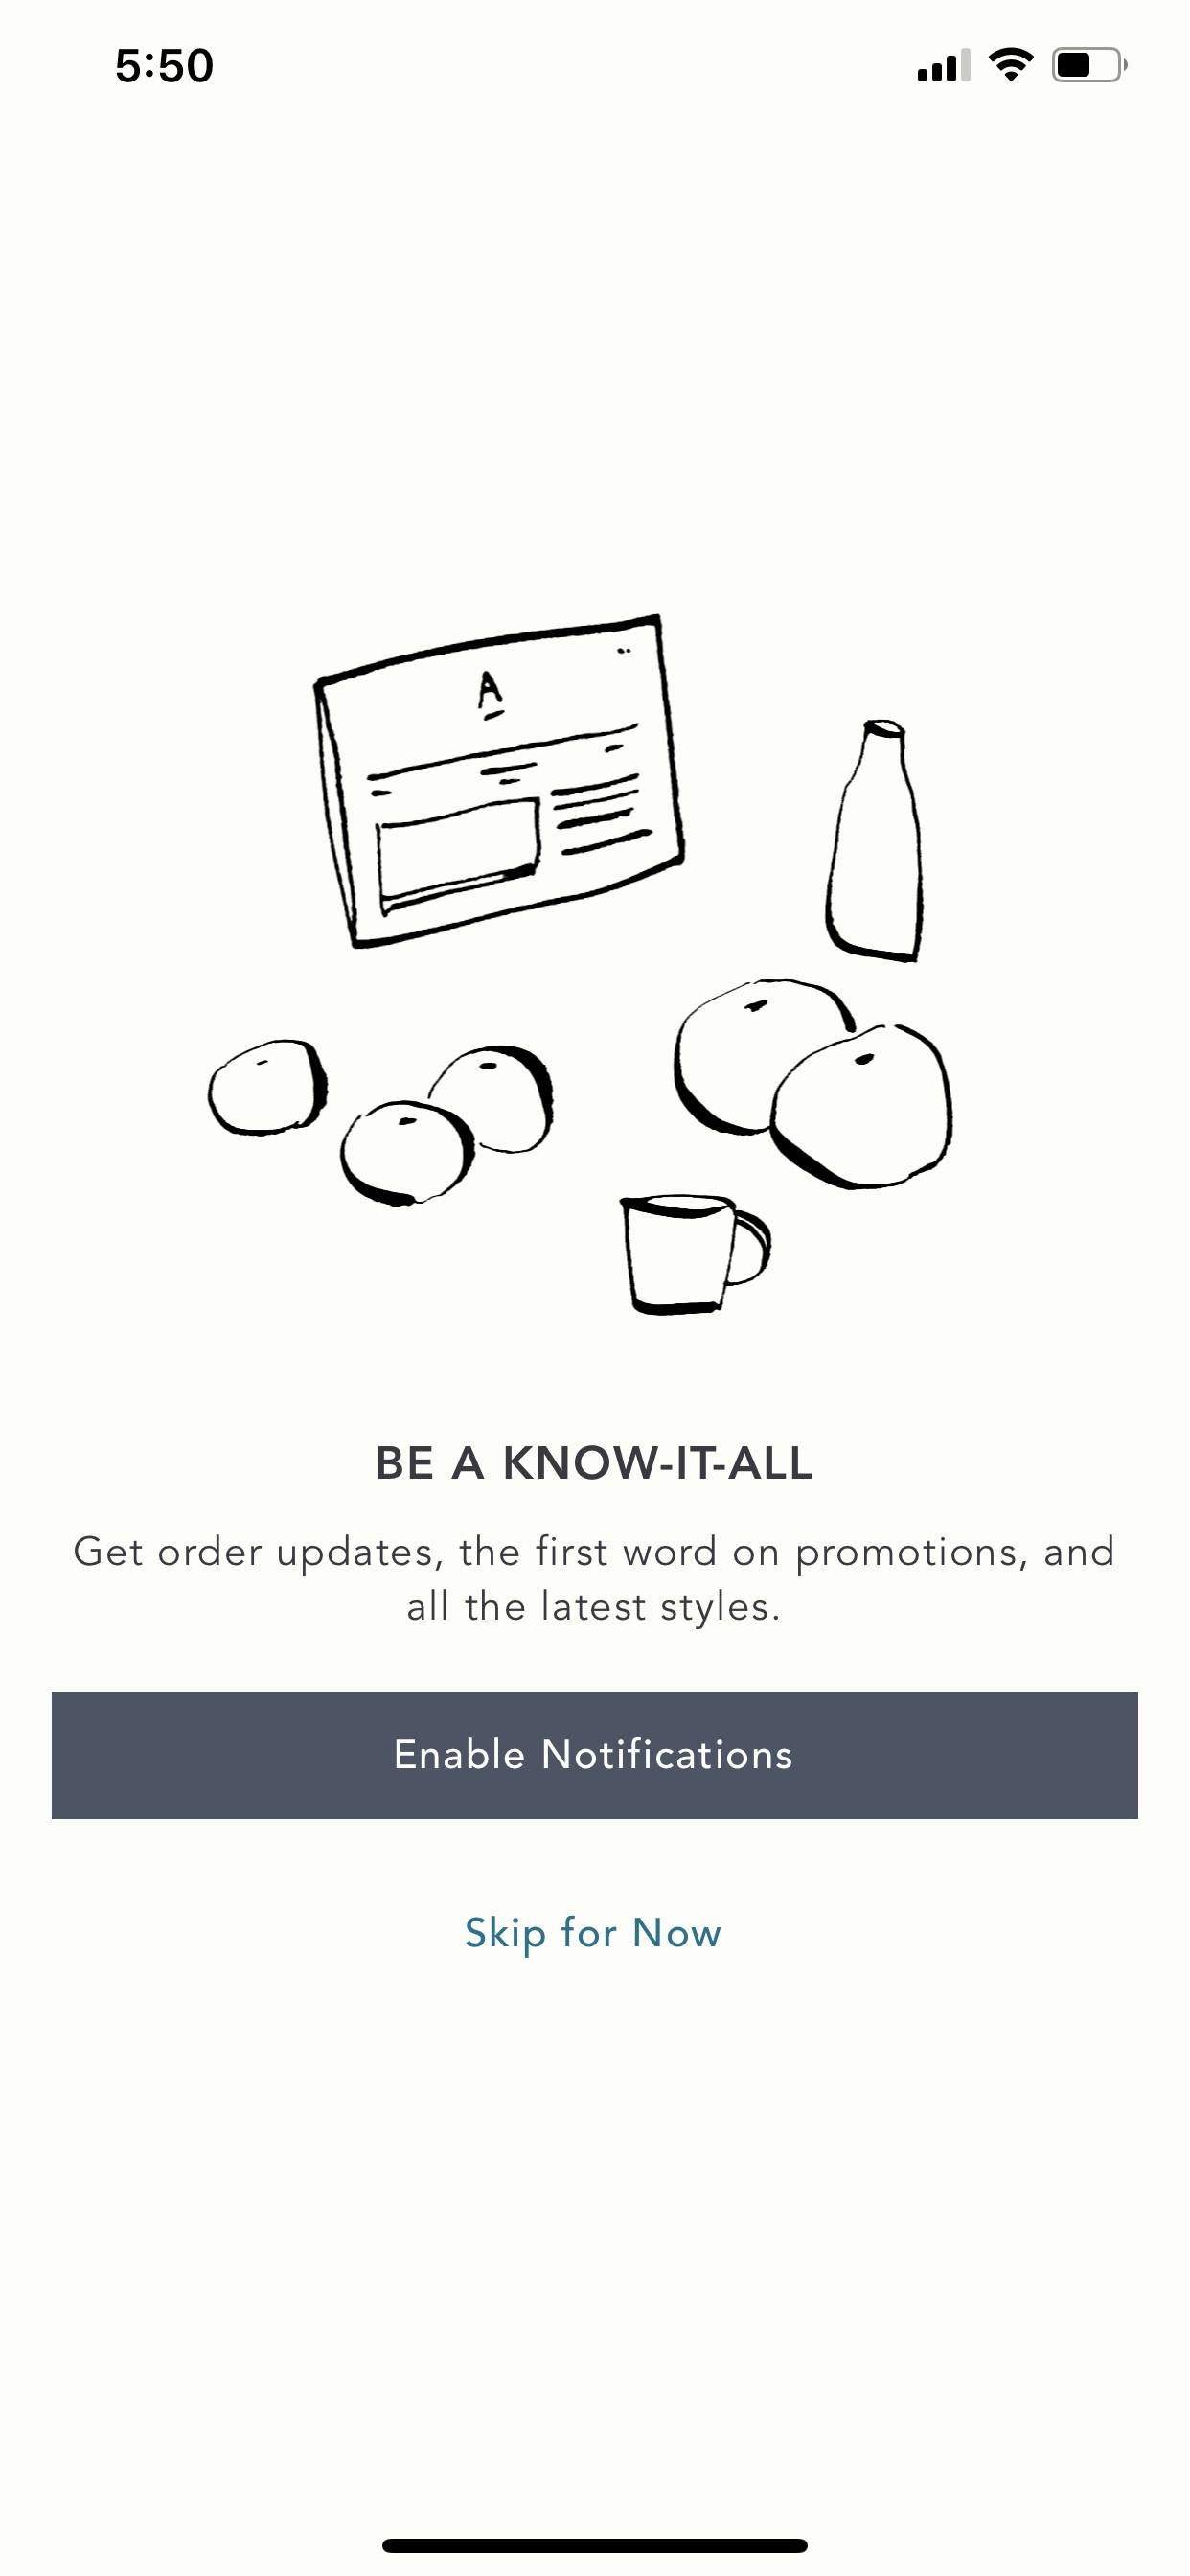Image: (209, 614, 953, 1318)
Text: (74, 1534, 1113, 1630), (378, 1446, 812, 1480), (465, 1916, 722, 1958)
TextButton: (51, 1692, 1139, 1819)
UpperTaskBar: (117, 48, 1128, 84)
